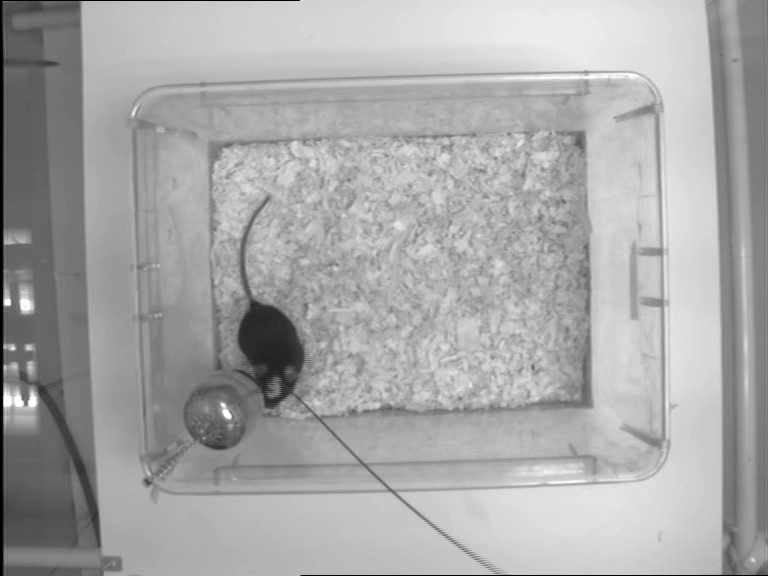mice: (239, 190, 305, 410)
